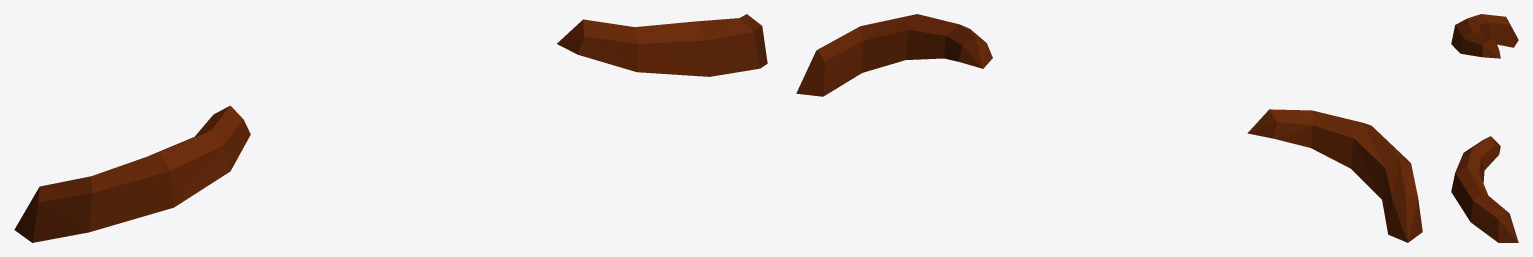
The model's file is Eyes 05.FBX.
3 renders of one model, left to right at view 1: azimuth 30°, elevation 25°; view 2: azimuth 150°, elevation 25°; view 3: azimuth 270°, elevation 25°, orthographic. The views are drawn at different scales.
Visible parts, largest first — view 1: Eyes 05; view 2: Eyes 05; view 3: Eyes 05.
Part boxes in pixels (bbox=[...]): Eyes 05: bbox=[14, 14, 767, 242]; Eyes 05: bbox=[796, 14, 1422, 242]; Eyes 05: bbox=[1451, 14, 1518, 242].
Bounding box in the file's own units: 18.66 × 2.63 × 2.32.
